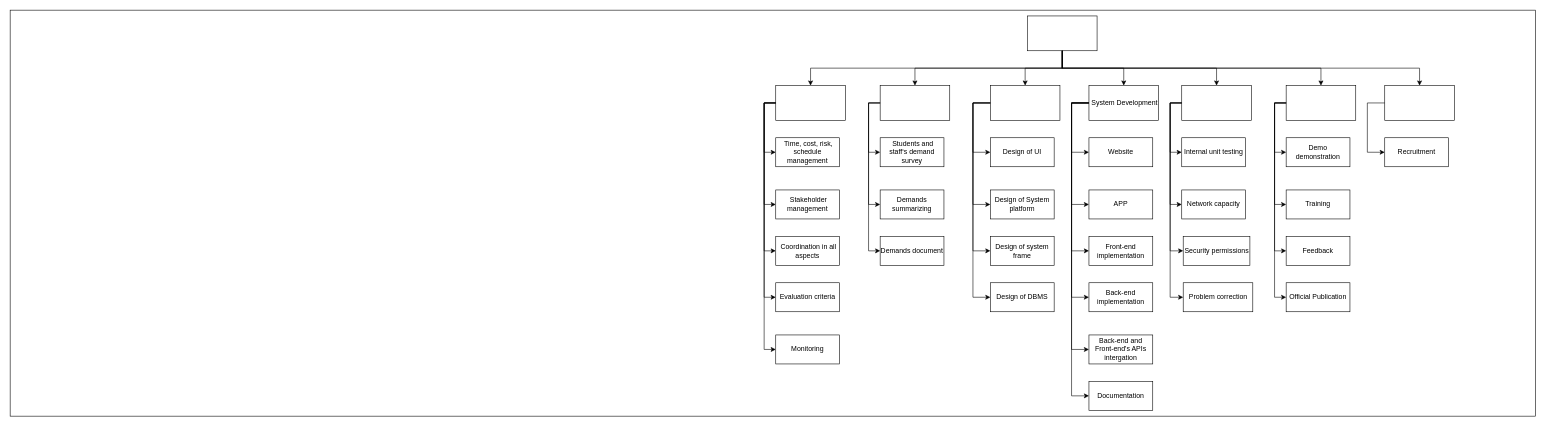
Some shapes in this 1546 by 426 pixel diagram are drawn without their labels. The centre of each missing label's shape, as x and y in pixels:
Demand analysis: pixel 915 102
Demonstration and publication: pixel 1321 102
HR: pixel 1419 102
Project management: pixel 810 102
System design: pixel 1025 102
System validation testing: pixel 1216 102
UNSW online learning and exchange System: pixel 1062 33
